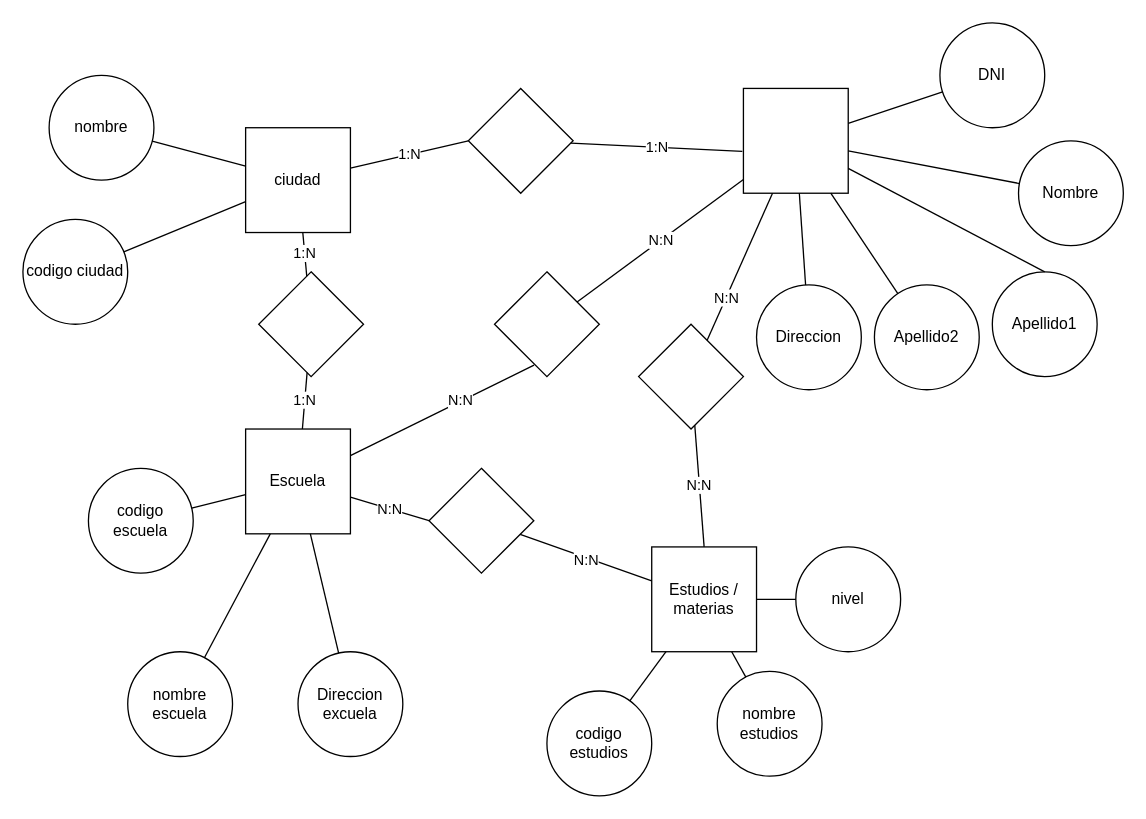
Image size: 1146x819. Some labels were removed from this diagram. Each missing label, with the centre of its shape:
"Alumnos" belongs at pixel 795 140.
"cursa" belongs at pixel 690 376.
"esta situada" belongs at pixel 310 324.
"Imparte" belongs at pixel 481 520.
"pertenece" belongs at pixel 546 324.
"vive" belongs at pixel 520 140.
